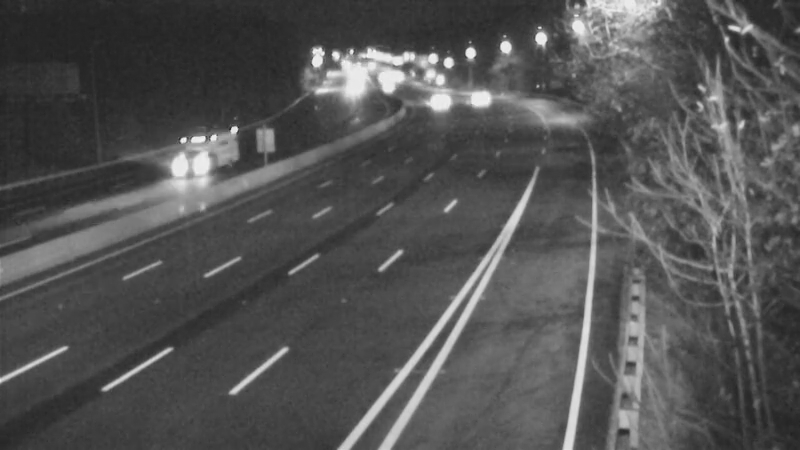vehicle: (156, 124, 236, 204), (364, 60, 414, 110), (451, 72, 501, 122), (405, 76, 455, 126)
